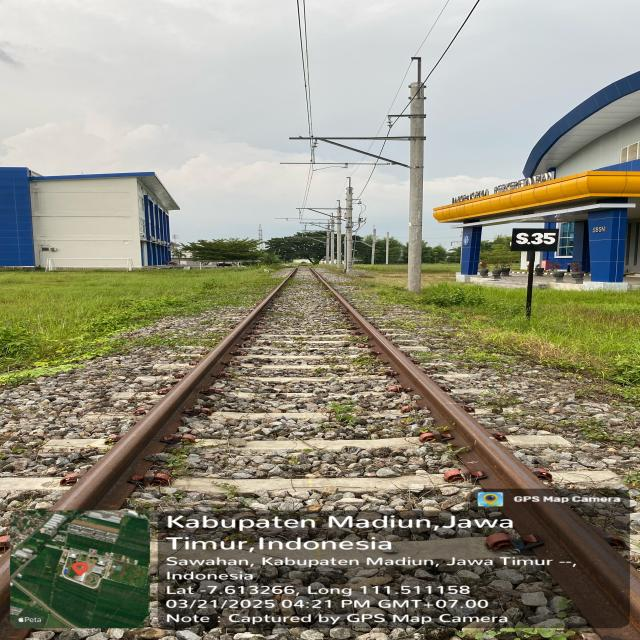rail-detection: (51, 268, 296, 510), (312, 269, 544, 496), (525, 507, 640, 636)
